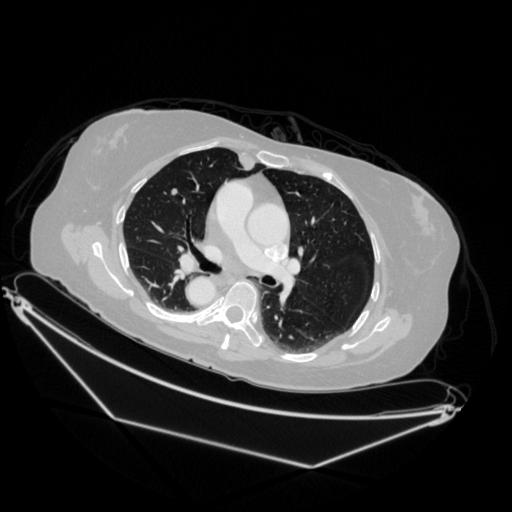nodule: (169, 185, 184, 200)
